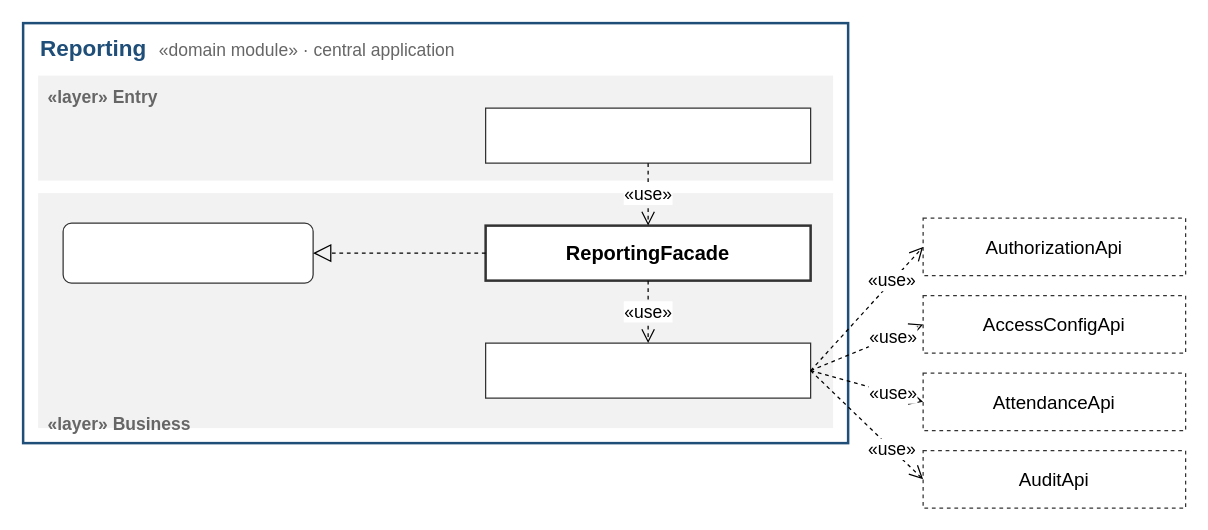
Some shapes in this 1208 by 530 pixel diagram are drawn without their labels. The centre of each missing label's shape, as x and y in pixels:
"ReportController" belongs at [647,135].
"ReportService" belongs at [647,370].
"«interface» ReportApi" belongs at [187,252].
